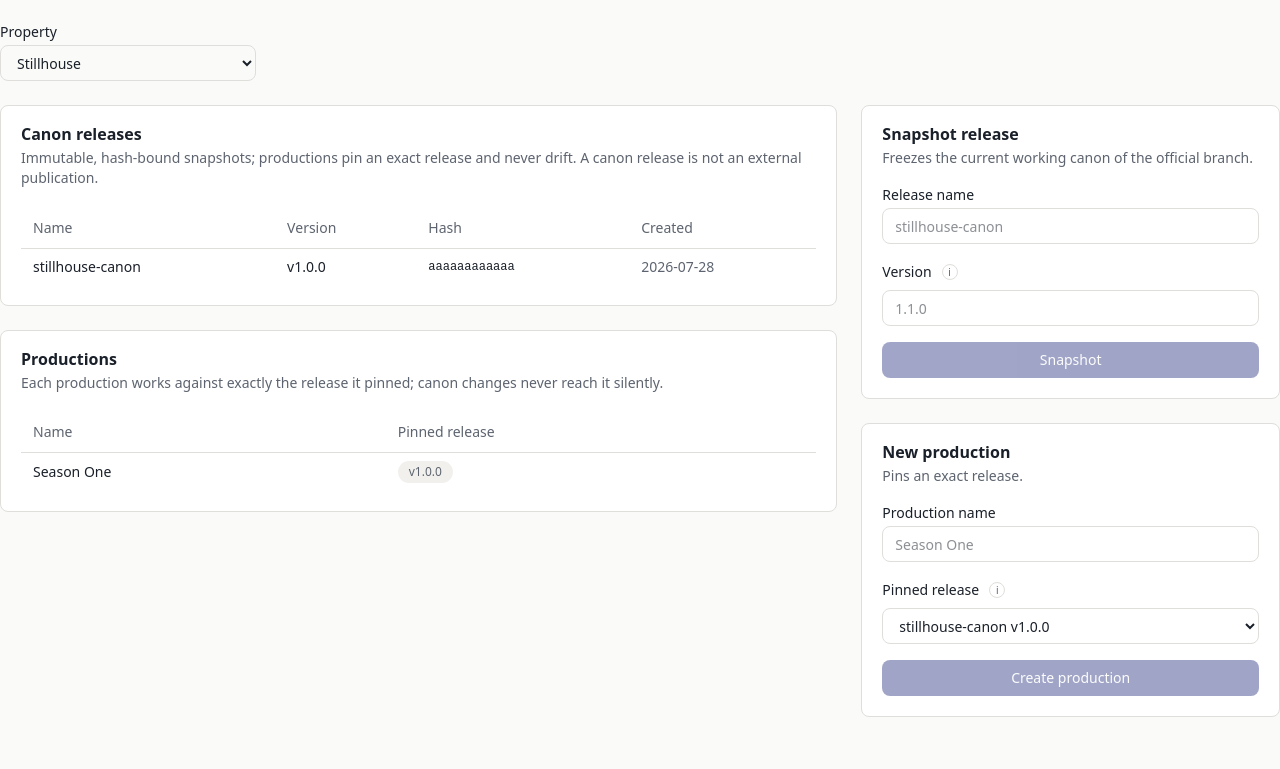
Test: Release Builder › creates a production through review, pinned to an exact release, and shows it immediately
Expected: the text "stillhouse-canon" is shown, [21,248,275,284]
Expected: the text "Season One" is shown, [21,452,386,491]
Type "Season Two" into the field labelled "Production name" at (1071, 544), box [882,526,1259,562]
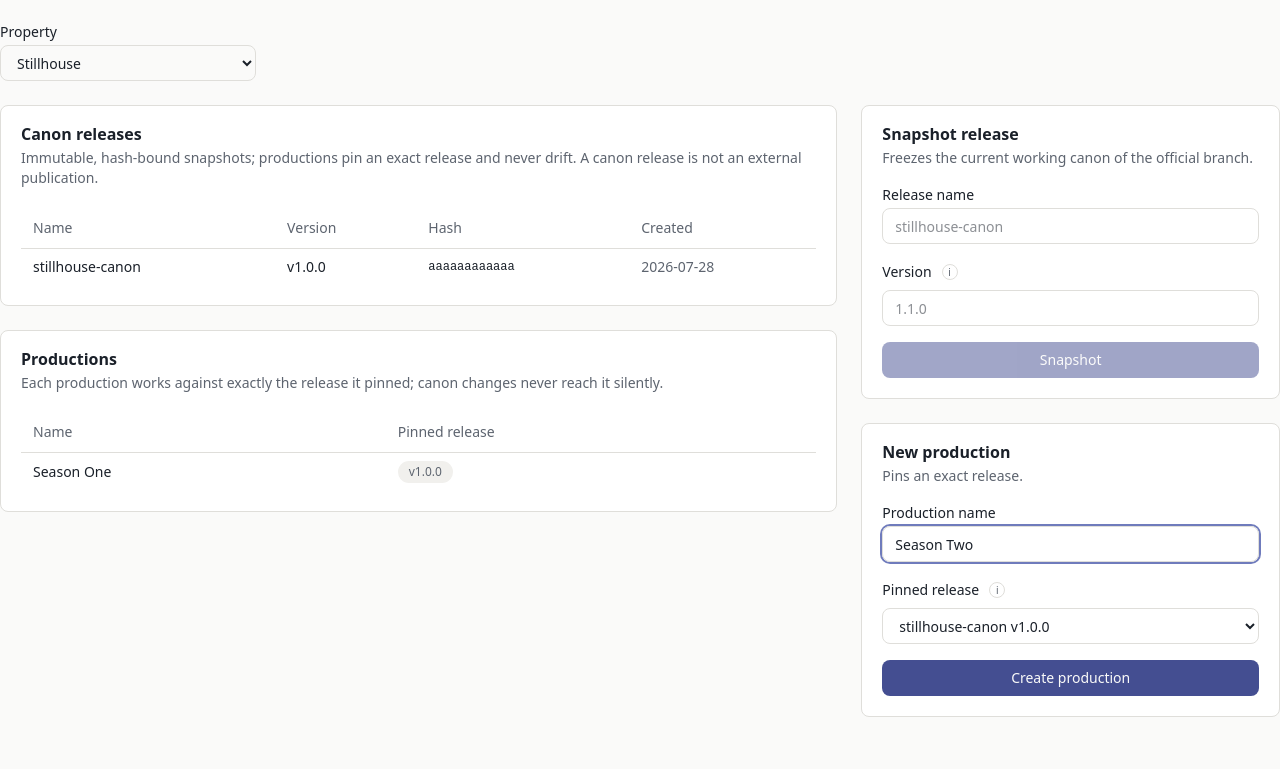
Click the button "Create production" at (1071, 678), box [882,660,1259,696]
(page scrolled)
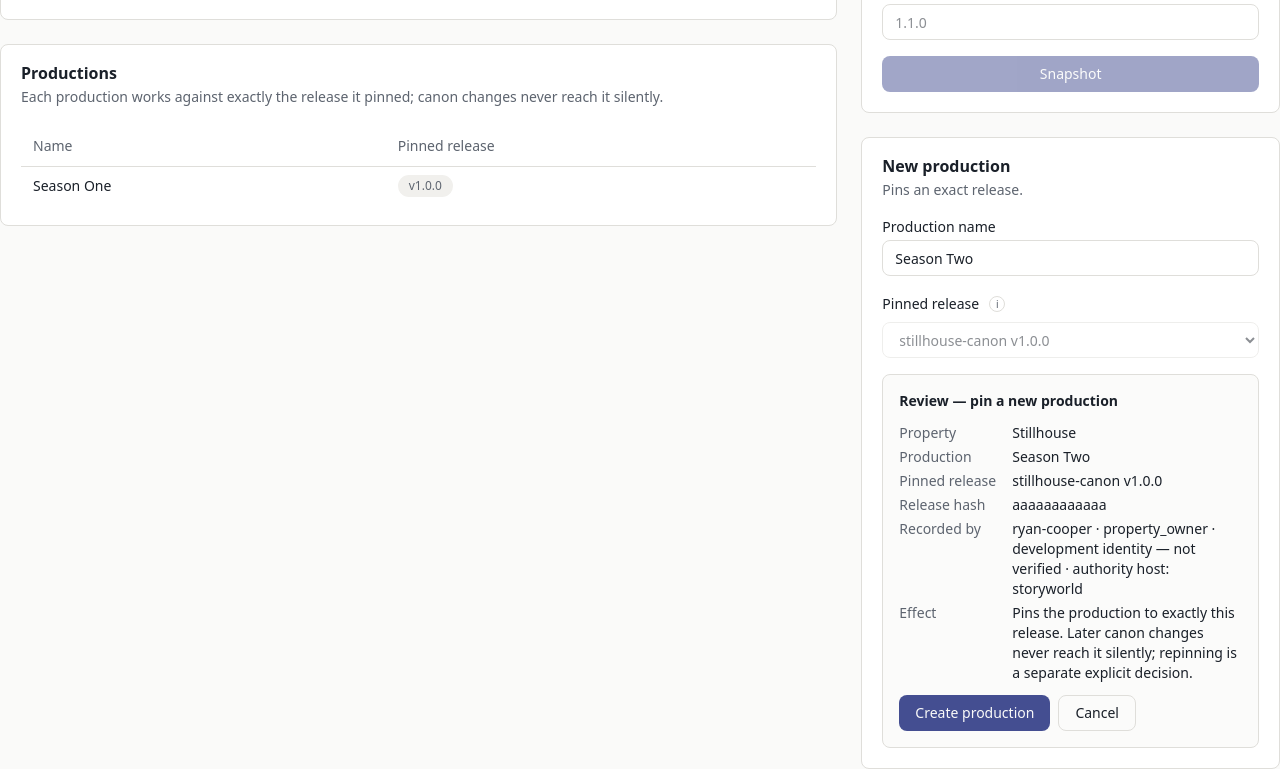
Expected: the text "stillhouse-canon v1.0.0" is shown, [1012,471,1162,490]
Click the button "Create production" at (975, 713), box [899,695,1050,731]
(page scrolled)
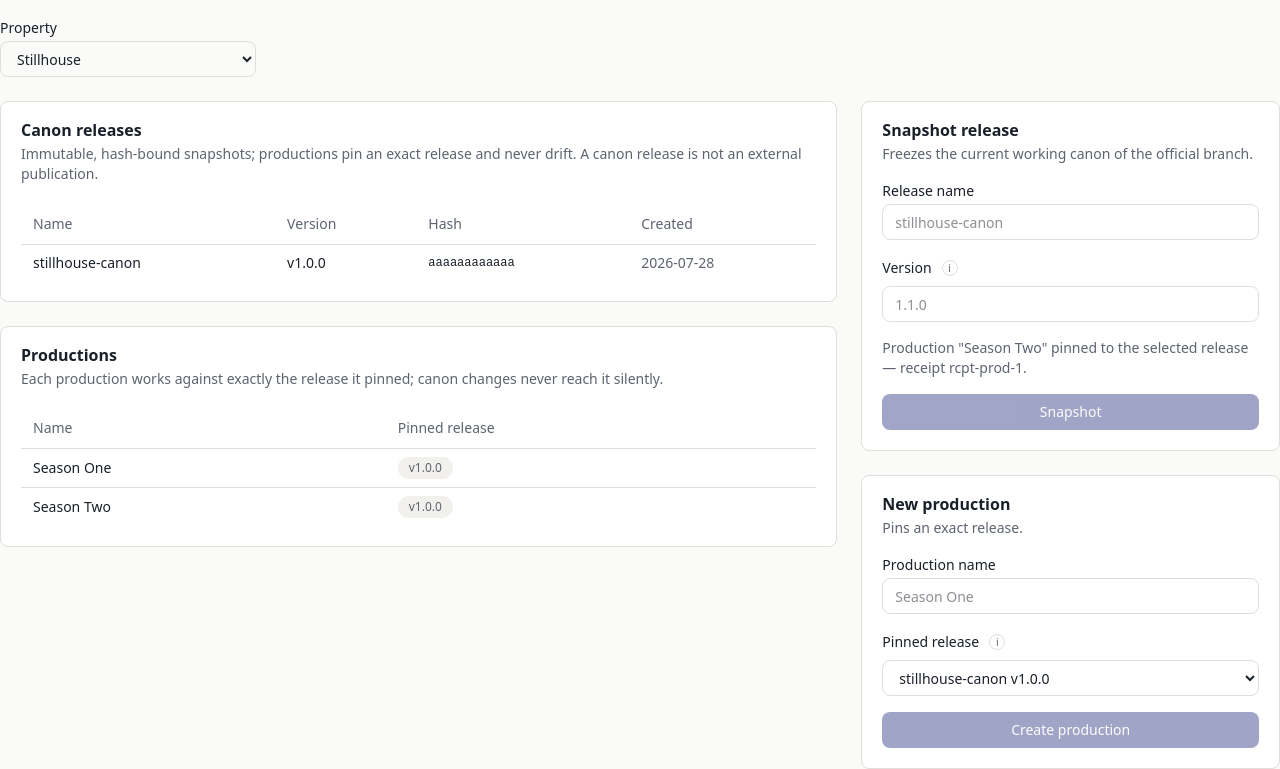
Expected: the text "Season Two" is shown, [21,488,386,526]
